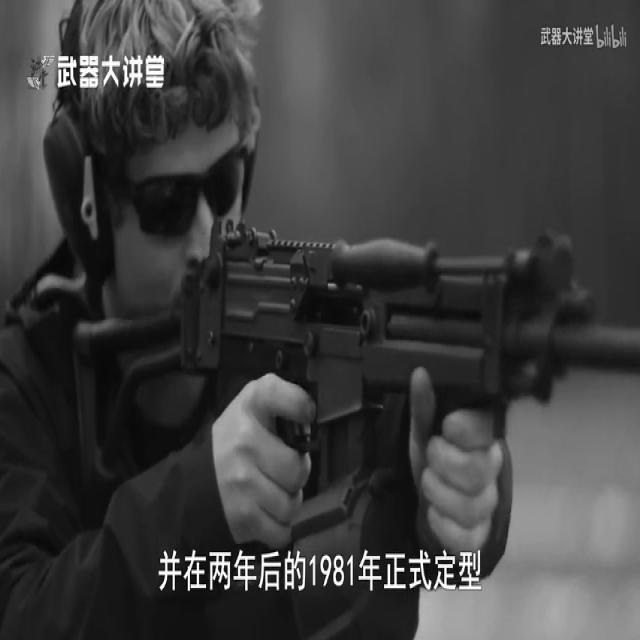Sniper: (20, 137, 640, 640)
